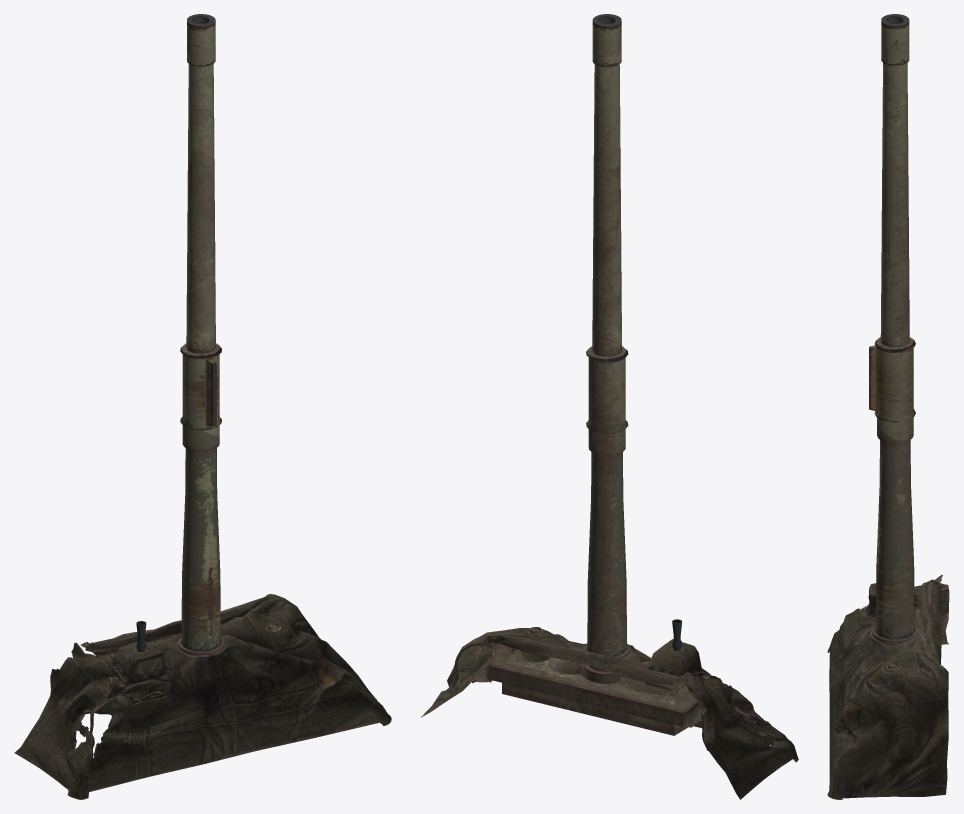
Rendered from Gun_06.glb.
3 renders of one model, left to right at view 1: azimuth 30°, elevation 25°; view 2: azimuth 150°, elevation 25°; view 3: azimuth 270°, elevation 25°, orthographic. The views are drawn at different scales.
Parts seen in each view (by area): view 1: set_0_group_0; view 2: set_0_group_0; view 3: set_0_group_0.
Part boxes in pixels (x1=…): set_0_group_0: x1=14, y1=14, x2=391, y2=799; set_0_group_0: x1=420, y1=14, x2=798, y2=799; set_0_group_0: x1=827, y1=14, x2=949, y2=799.
Size of the model in its own units: 2.11 by 4.49 by 0.7049.
1 material, 1 textured.
